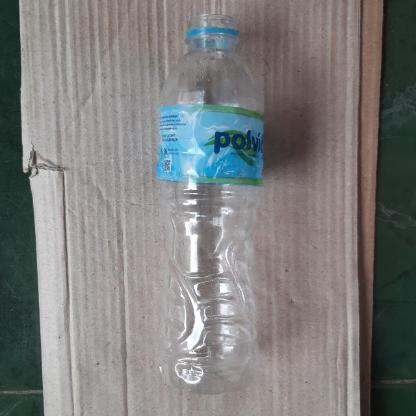Plastic Bottle: (137, 6, 296, 400)
